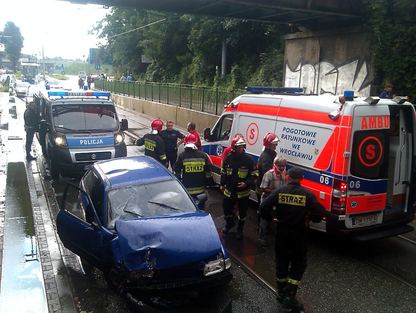ambulance: (198, 88, 416, 246)
